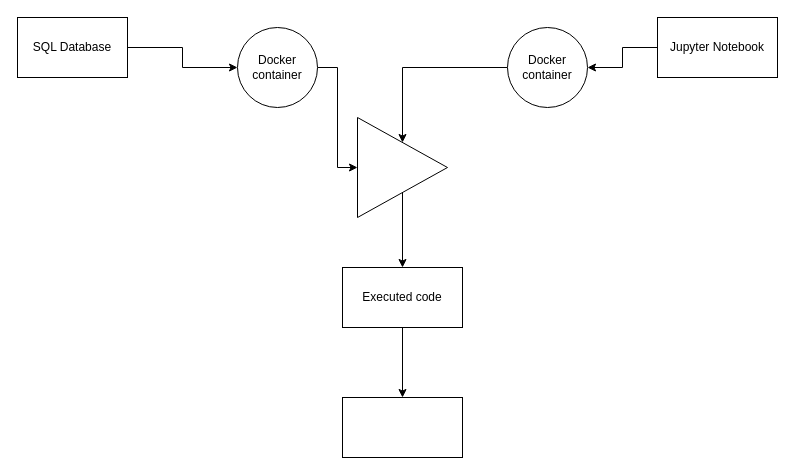
This 795x475 diagram has some shape labels left out. Here are the shapes that lost their labels. From the top down, the box of each, then its label:
(356, 116, 448, 218): Docker net
(342, 396, 462, 458): Graphcal output of the analysis
